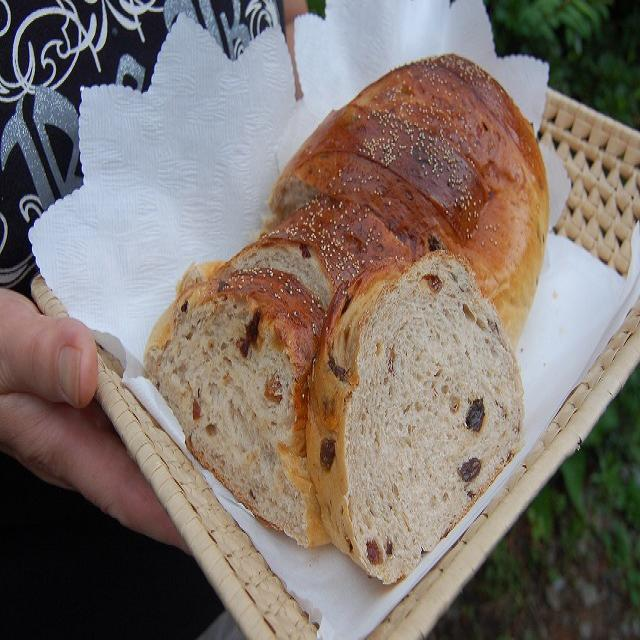面包点心: (158, 51, 560, 580)
